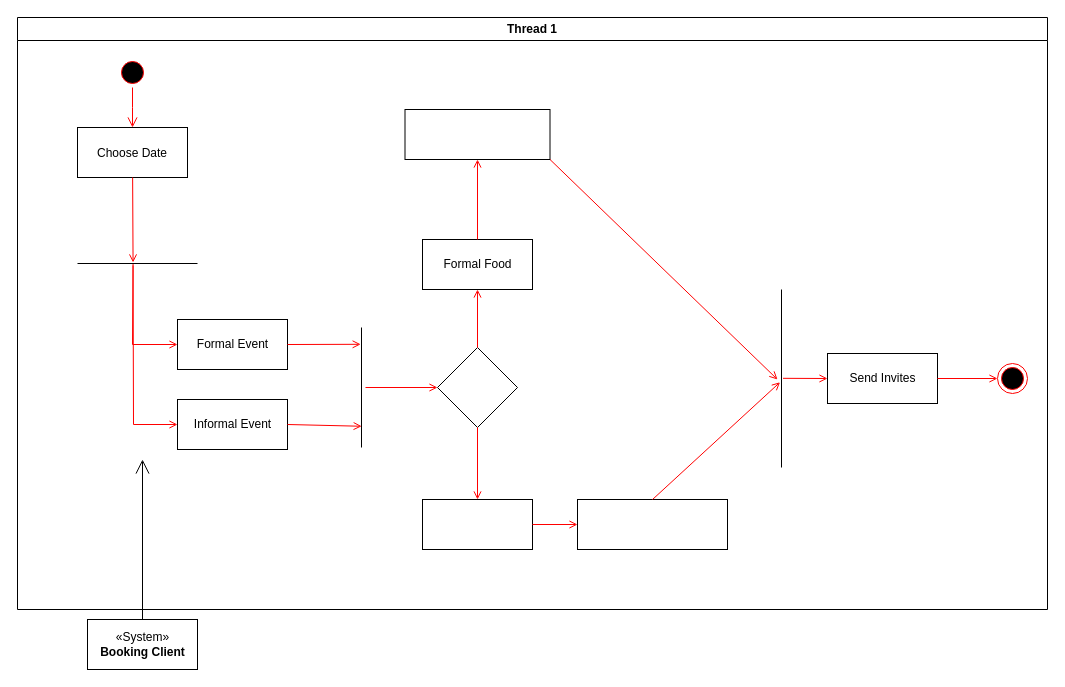
Image size: 1065x687. Some labels were removed from this diagram. The shapes that lost their labels are listed below. From the top down, each one's box as (x1, y1, x2, y2) in pixels, then its label:
(404, 108, 550, 160): Formal Entertainment
(422, 498, 532, 550): Sweet food
(576, 498, 728, 550): Informal entertainment
